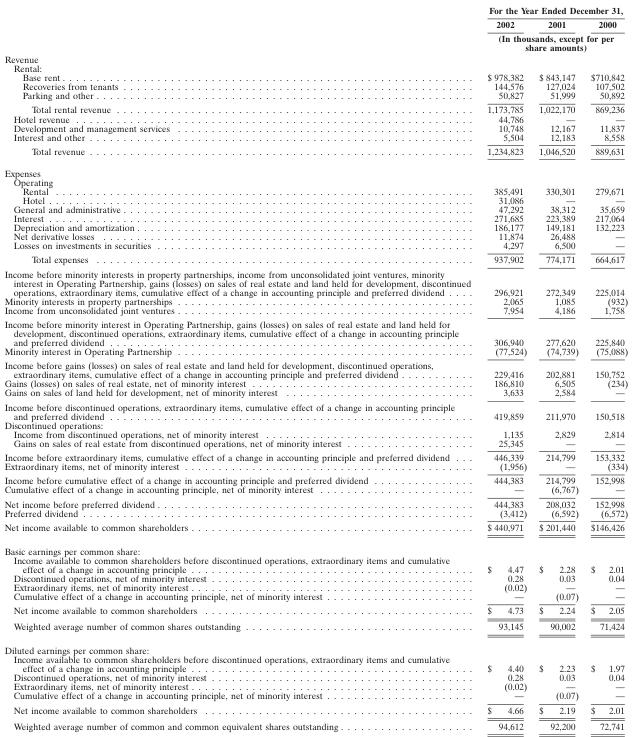table: (3, 4, 627, 731)
table column: (3, 4, 478, 731), (478, 4, 532, 731), (532, 4, 583, 731), (583, 4, 627, 731)
table column header: (3, 4, 627, 52)
table projected row header: (3, 538, 627, 555), (3, 161, 627, 177), (3, 638, 627, 654), (3, 52, 627, 63), (3, 419, 627, 429), (3, 63, 627, 72), (3, 177, 627, 186)
table row: (3, 316, 627, 346), (3, 266, 627, 295), (3, 31, 627, 52), (3, 357, 627, 378), (3, 617, 627, 638), (3, 399, 627, 419), (3, 519, 627, 538), (3, 143, 627, 161), (3, 555, 627, 573), (3, 654, 627, 672), (3, 538, 627, 555), (3, 161, 627, 177), (3, 638, 627, 654), (3, 16, 627, 31), (3, 602, 627, 617), (3, 702, 627, 717), (3, 252, 627, 266), (3, 717, 627, 731), (3, 4, 627, 16), (3, 90, 627, 102), (3, 131, 627, 143), (3, 240, 627, 252), (3, 387, 627, 399), (3, 449, 627, 461), (3, 472, 627, 484), (3, 484, 627, 496), (3, 507, 627, 519), (3, 690, 627, 702), (3, 52, 627, 63), (3, 102, 627, 113), (3, 305, 627, 316), (3, 346, 627, 357), (3, 438, 627, 449), (3, 461, 627, 472), (3, 496, 627, 507), (3, 591, 627, 602), (3, 295, 627, 305), (3, 419, 627, 429), (3, 63, 627, 72), (3, 72, 627, 81), (3, 81, 627, 90), (3, 113, 627, 122), (3, 122, 627, 131), (3, 177, 627, 186), (3, 186, 627, 195), (3, 195, 627, 204), (3, 204, 627, 213), (3, 213, 627, 222), (3, 222, 627, 231), (3, 231, 627, 240), (3, 378, 627, 387), (3, 429, 627, 438), (3, 573, 627, 582), (3, 582, 627, 591), (3, 672, 627, 681), (3, 681, 627, 690)
table spanning cell: (478, 31, 627, 52), (478, 4, 627, 16)
